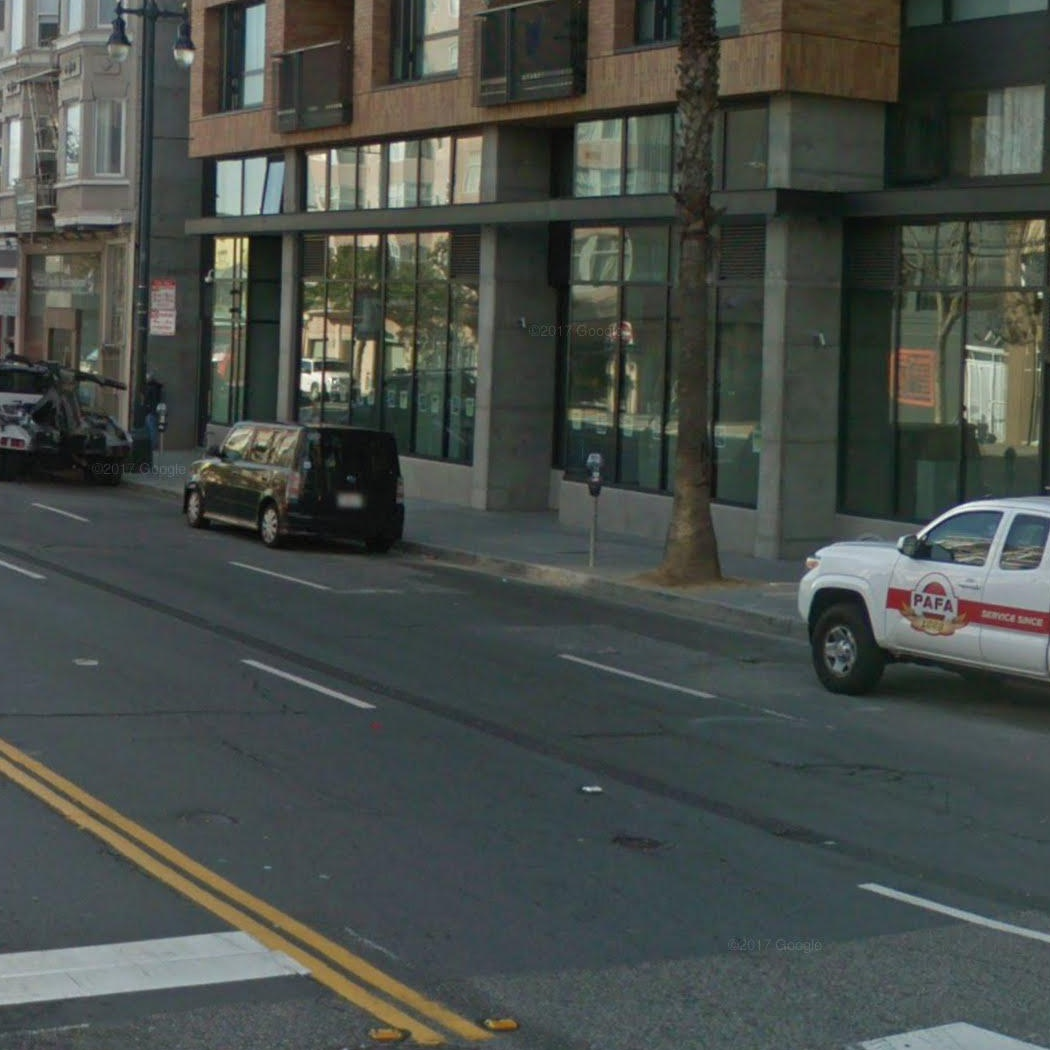No Parking: (146, 308, 178, 337)
